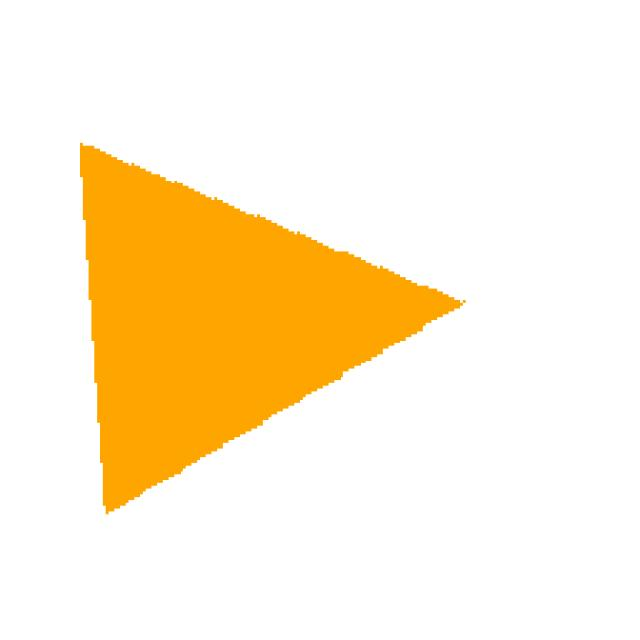Triangle: (43, 120, 481, 541)
